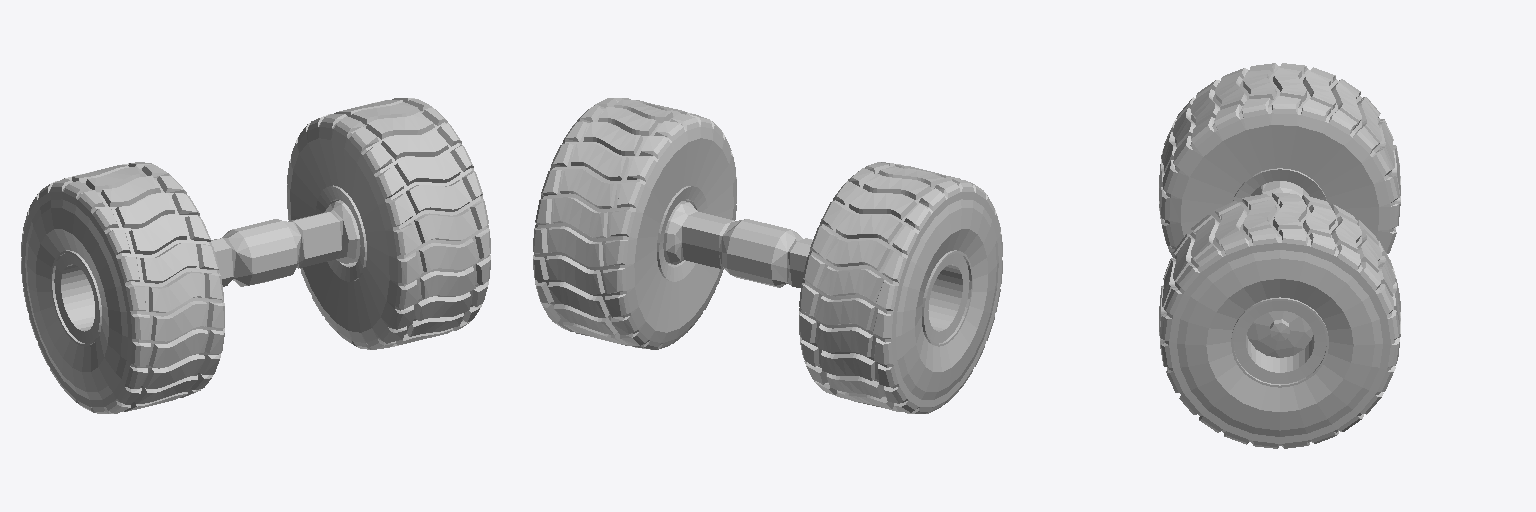
File: FWMaquina.obj
The picture shows the model from 3 angles: view 1: azimuth 30°, elevation 25°; view 2: azimuth 150°, elevation 25°; view 3: azimuth 270°, elevation 25°; orthographic projection.
Parts seen in each view (by area): view 1: wheel_low, wheel_cilinder_low, wheel_cilinder_inside_low; view 2: wheel_low, wheel_cilinder_low, wheel_cilinder_inside_low; view 3: wheel_low, wheel_cilinder_inside_low, wheel_cilinder_low.
Part boxes in pixels (x1,y1,x2,y2): wheel_low: (21, 98, 490, 413); wheel_cilinder_low: (211, 200, 360, 286); wheel_cilinder_inside_low: (51, 185, 366, 346); wheel_low: (533, 98, 1002, 413); wheel_cilinder_low: (663, 201, 812, 287); wheel_cilinder_inside_low: (657, 186, 972, 346); wheel_low: (1159, 63, 1400, 448); wheel_cilinder_inside_low: (1231, 168, 1328, 387); wheel_cilinder_low: (1247, 181, 1312, 357).
Bounding box in the file's own units: 3.59 × 2.04 × 2.04.